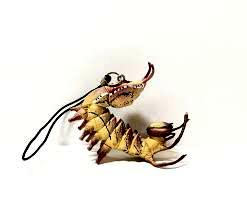Lobster Moth: (71, 63, 196, 186)
